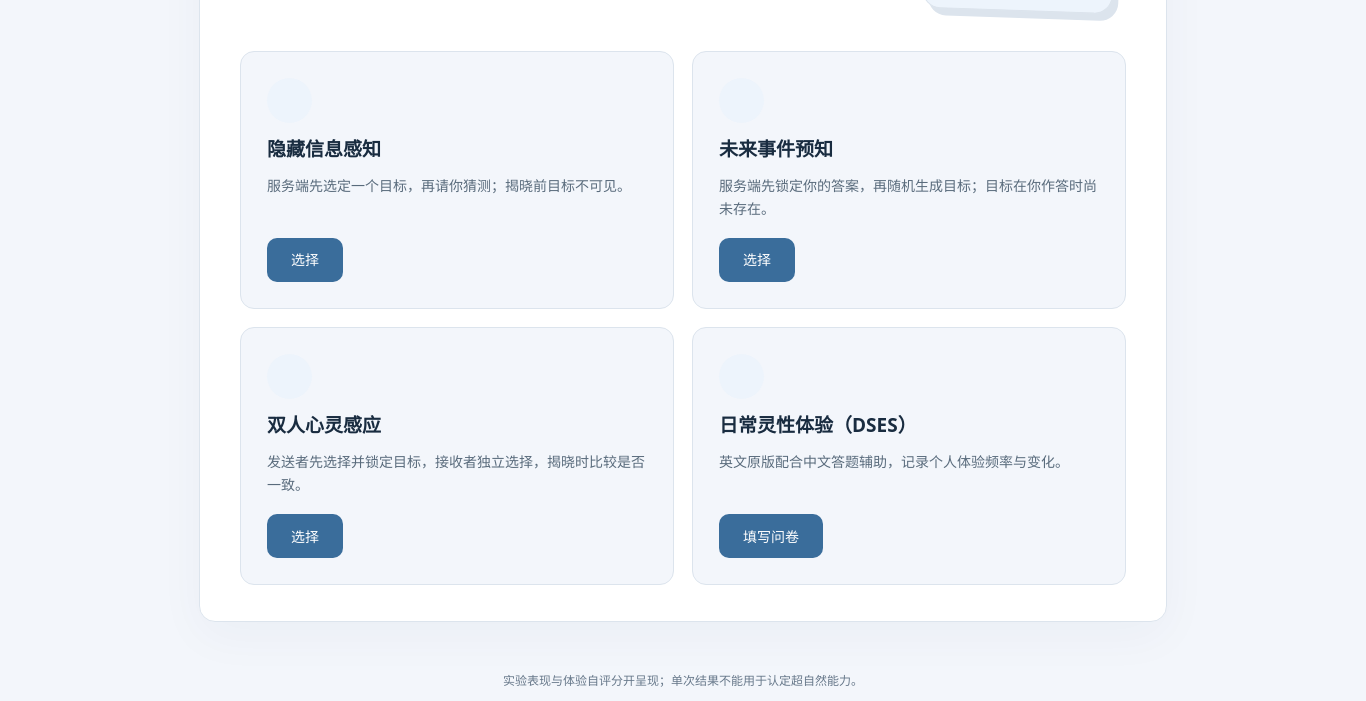
Test: telepathy roles › sender creates a room, sees the code and has no guessing input
(page scrolled)
Click the button "选择" below "发送者先选择并锁定目标，接收者独立选择，揭晓时比较是否一致。" at (305, 536), box [267, 514, 343, 558]
(page scrolled)
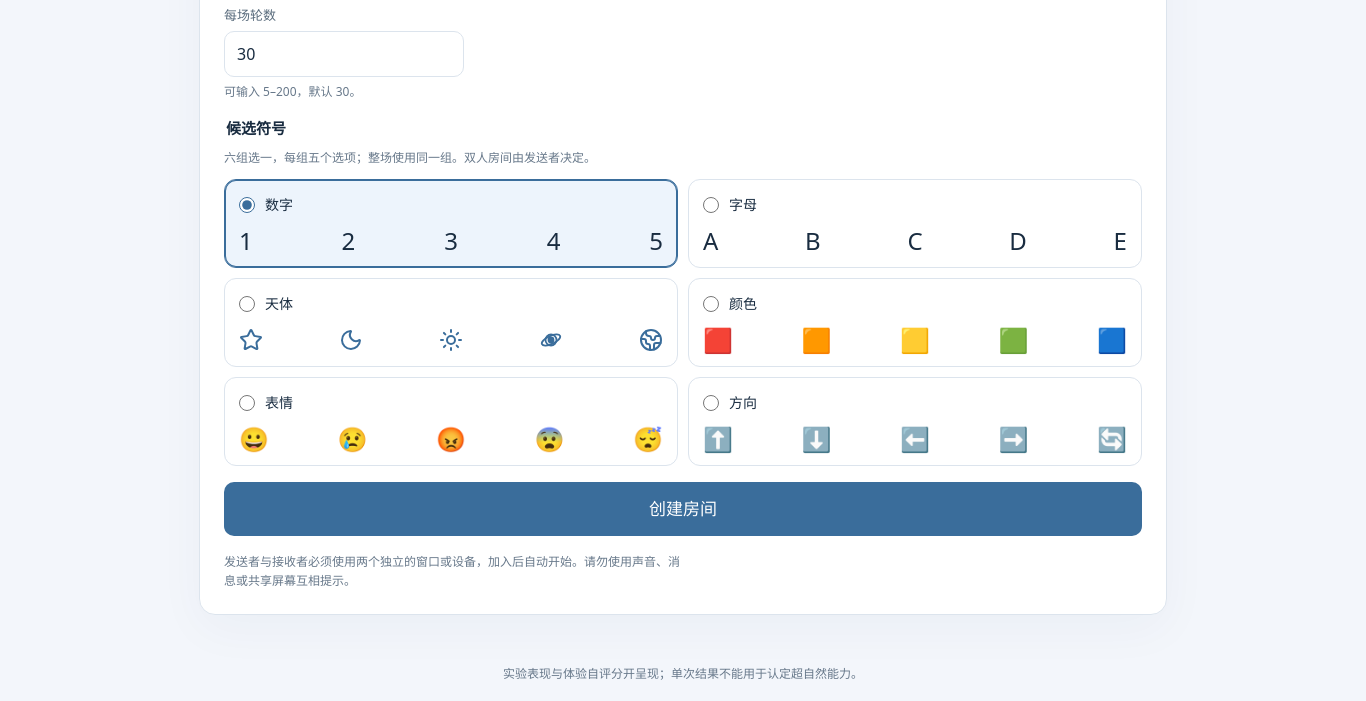
Click the button "创建房间" at (683, 509), box [224, 482, 1142, 536]
(page scrolled)
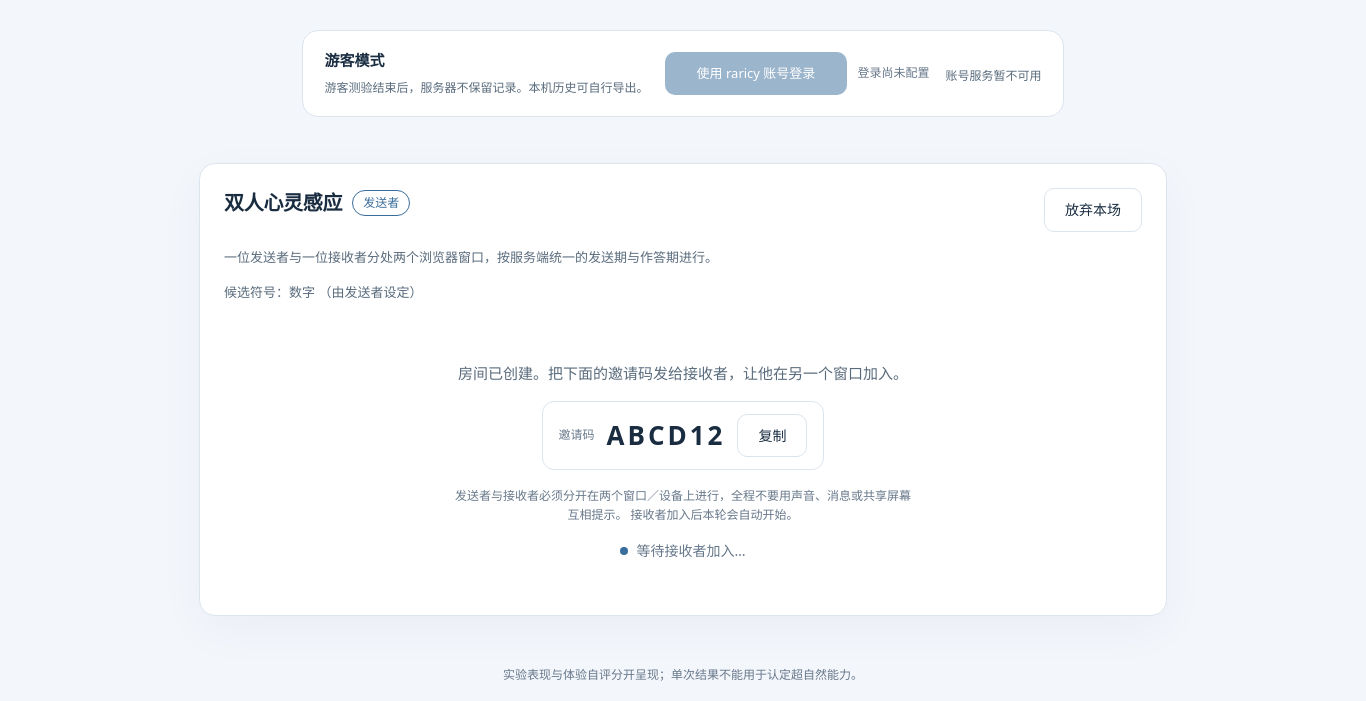
Check: the text named "房间邀请码" is shown, box [606, 416, 726, 455]
Check: the text named "房间邀请码" reads "ABCD12", box [606, 417, 726, 453]
Check: the radio button is gone
